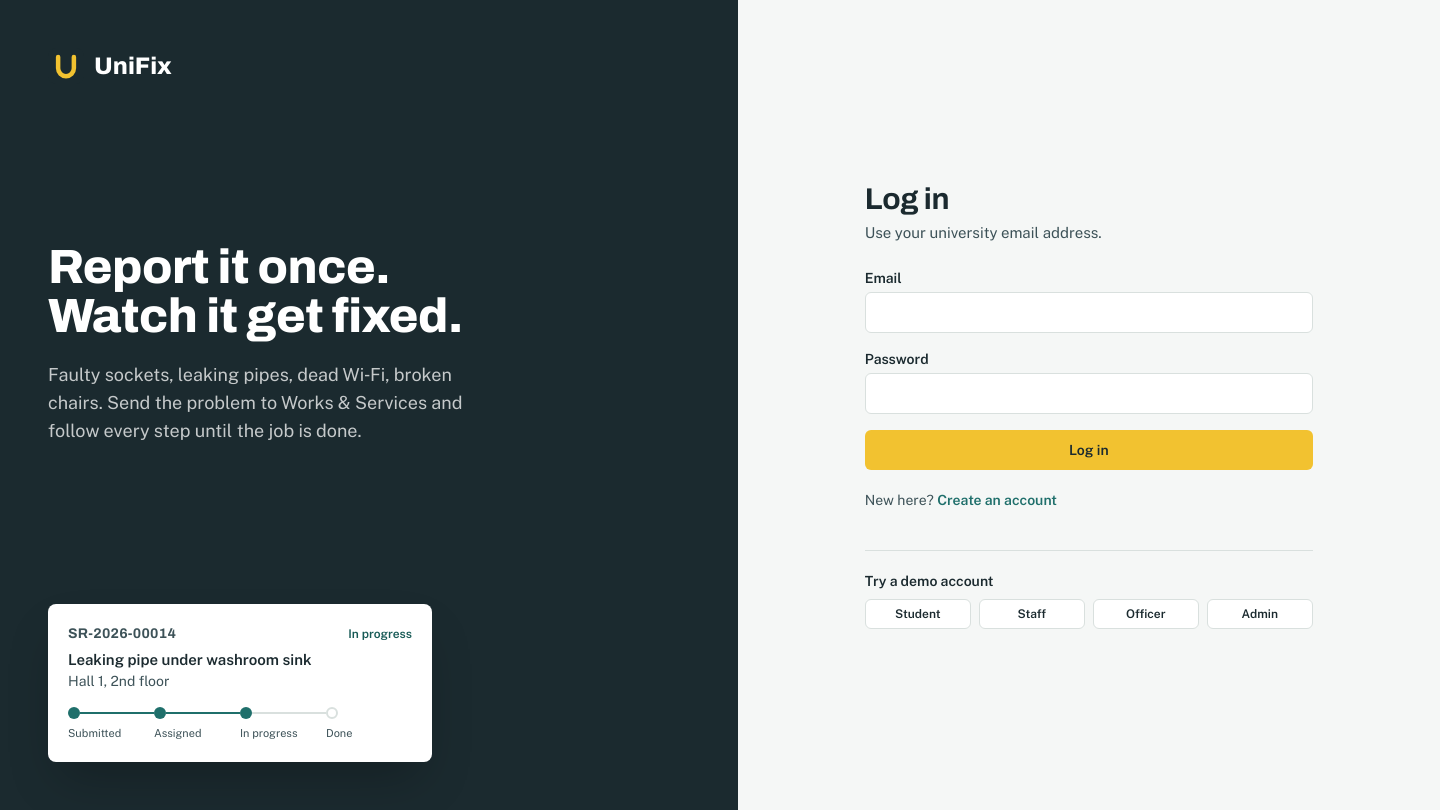
Test: LoginPage › shows the server's message when credentials are wrong
This screenshot has width=1440, height=810.
Type "student@unifix.edu.ng" into the field labelled "Email" at (1089,313), box [865,292,1313,333]
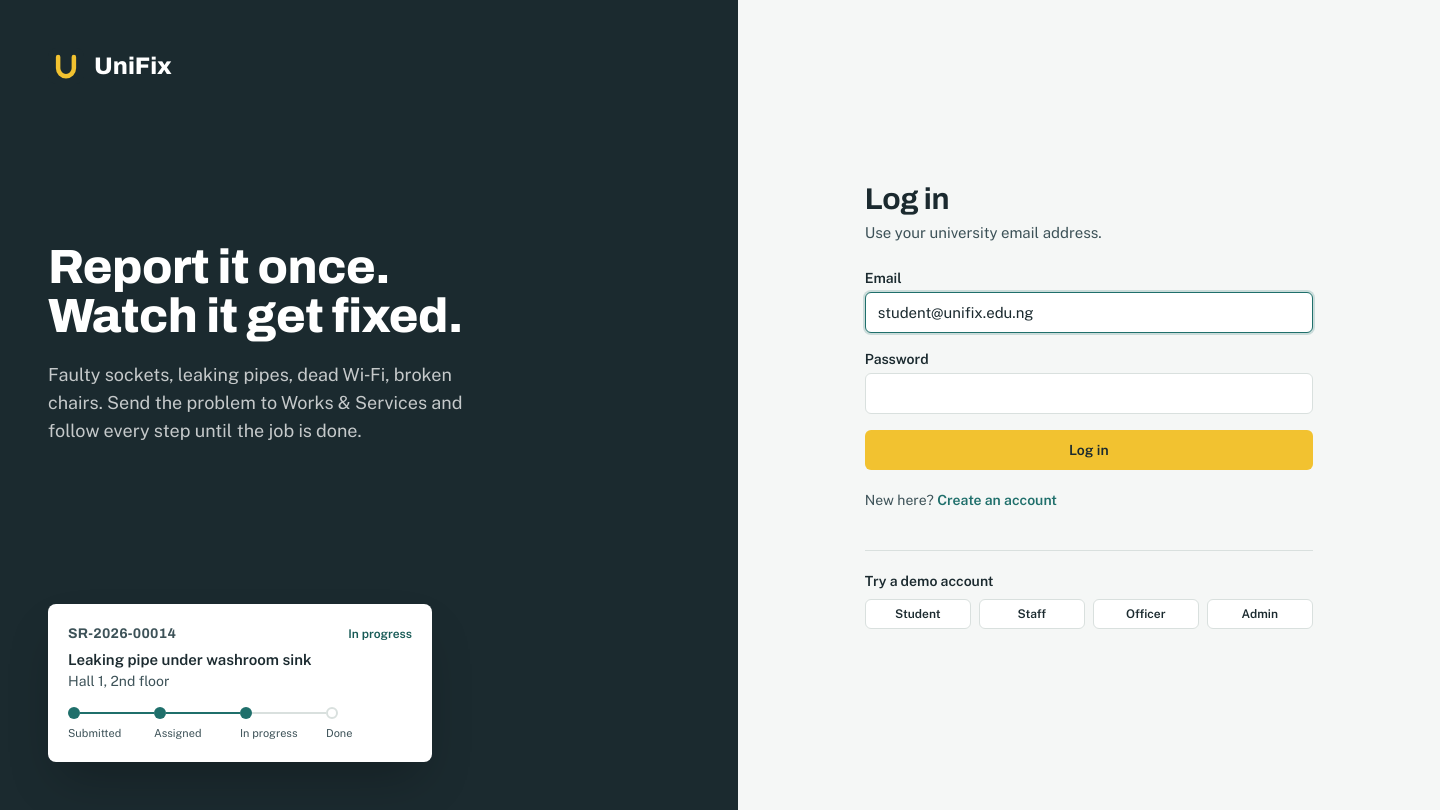
Type "wrongpass1" into the password field labelled "Password" at (1089,394), box [865,373,1313,414]
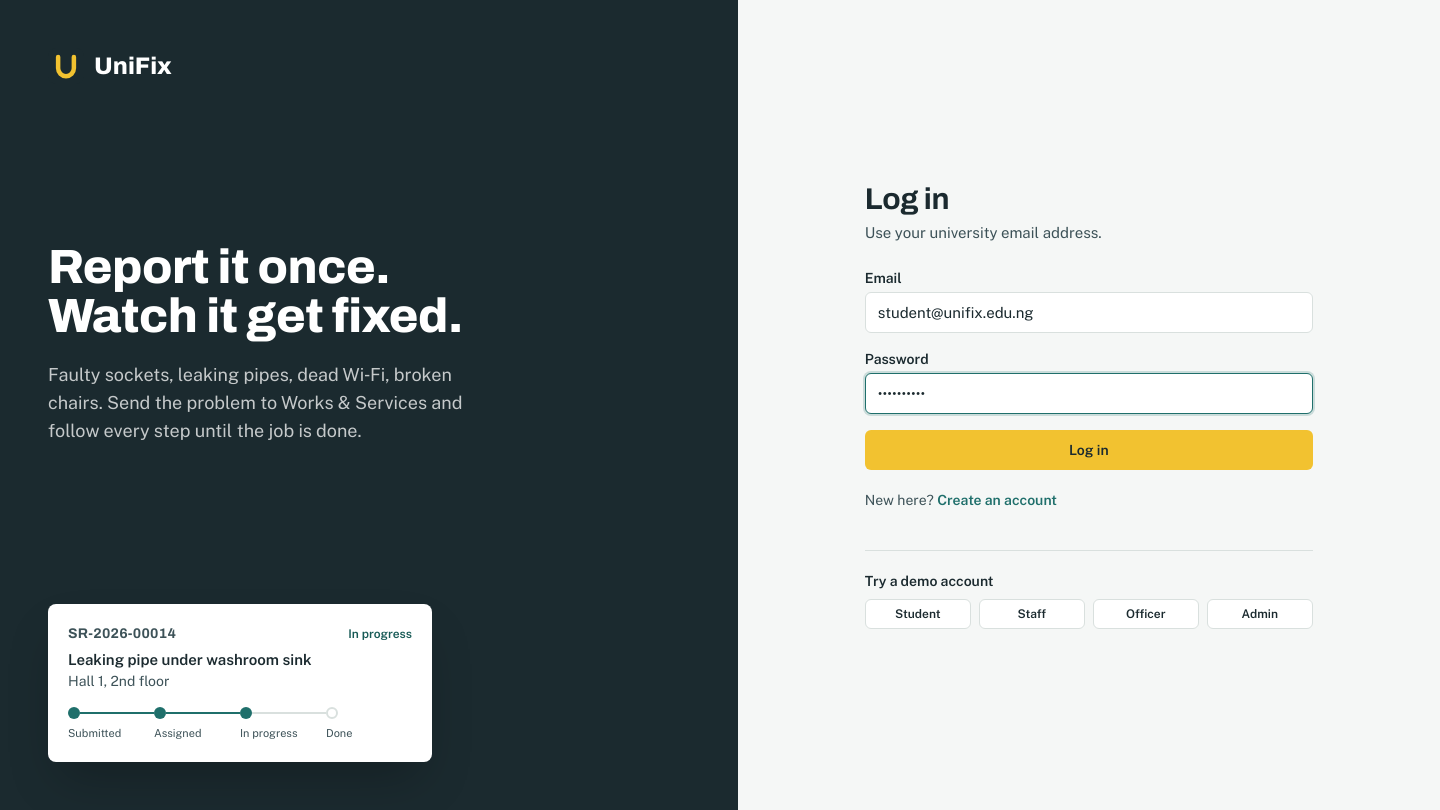
Click the button "Log in" at (1089,450), box [865,430,1313,470]
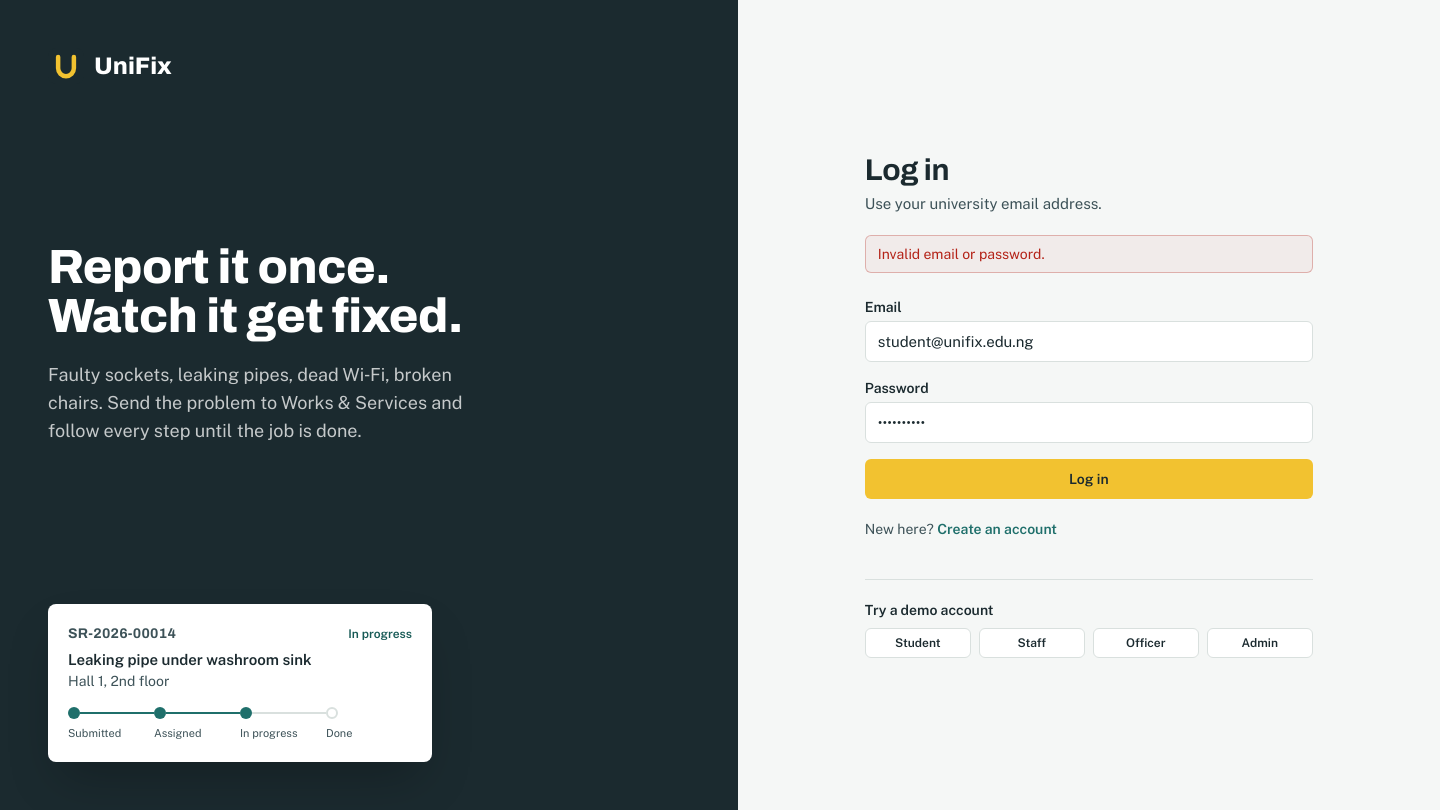
Expected: the text "Invalid email or password." is shown, [865,235,1313,273]
